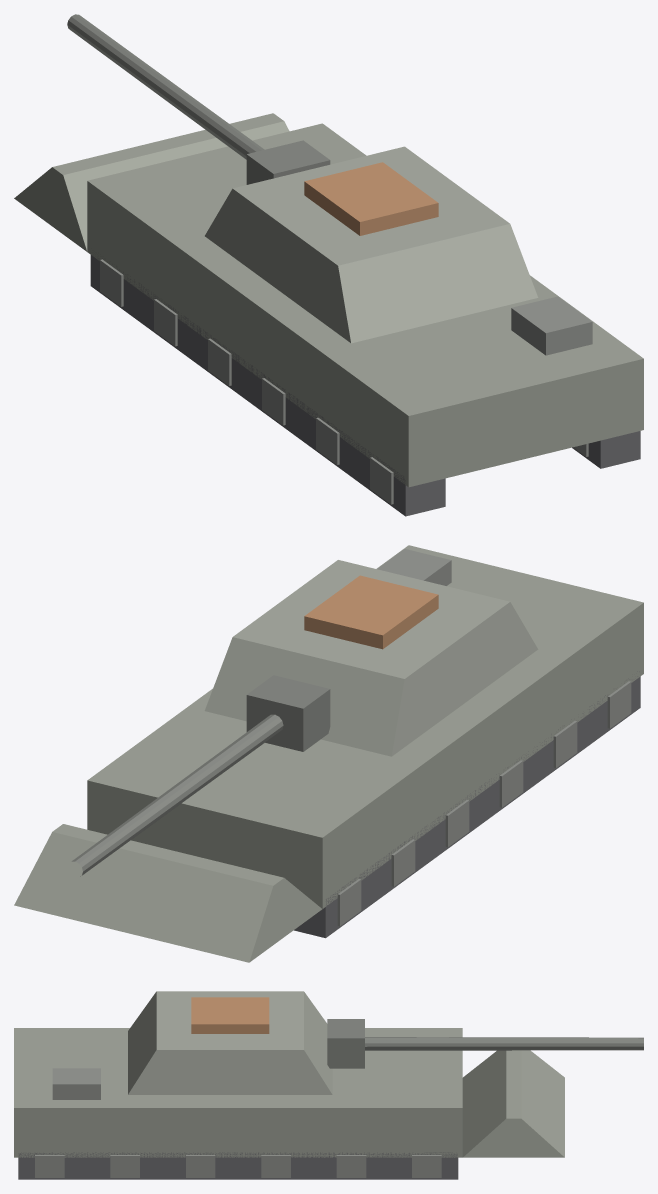
Rendered from mbt_e4_uk_LOD0.glb.
The picture shows the model from 3 angles, top to bottom: view 1: azimuth 30°, elevation 25°; view 2: azimuth 150°, elevation 25°; view 3: azimuth 270°, elevation 25°; orthographic projection. The views are drawn at different scales.
Parts seen in each view (by area): view 1: mbt_e4_uk_LOD0_body; view 2: mbt_e4_uk_LOD0_body; view 3: mbt_e4_uk_LOD0_body.
Boxes of the visible parts, <box> form: mbt_e4_uk_LOD0_body: <box>14,14,643,516</box>; mbt_e4_uk_LOD0_body: <box>14,545,643,962</box>; mbt_e4_uk_LOD0_body: <box>14,991,643,1179</box>.
Size of the model in its own units: 3.59 by 2.64 by 11.7.
